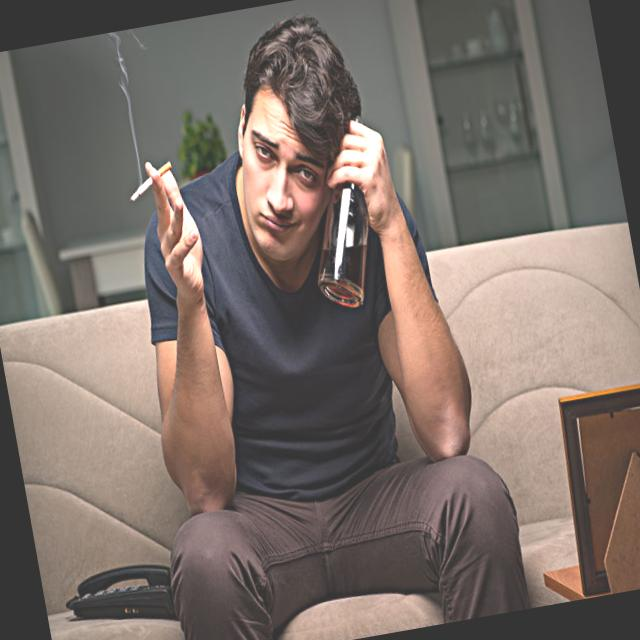cigarette: (126, 176, 154, 204)
